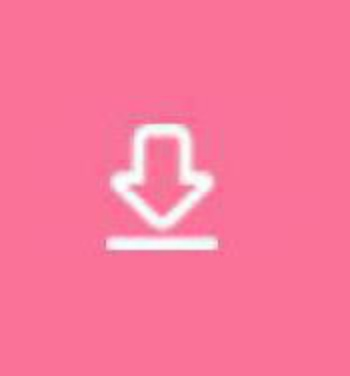ImgButton: (1, 1, 349, 375)
